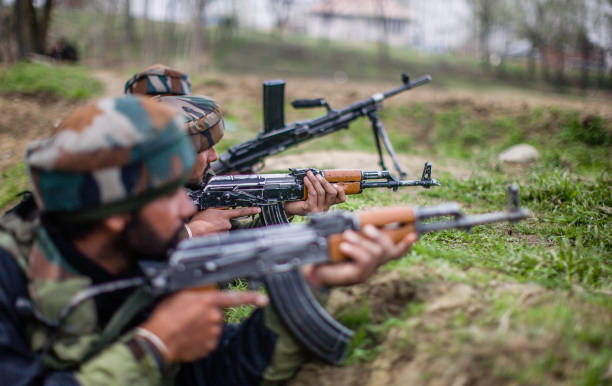rifle: (131, 185, 549, 366), (197, 64, 446, 195), (192, 167, 447, 214)
